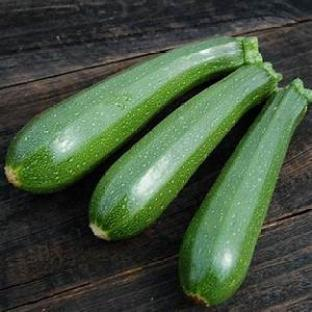Zucchini: (6, 38, 261, 192), (90, 64, 280, 240), (179, 80, 311, 305)
